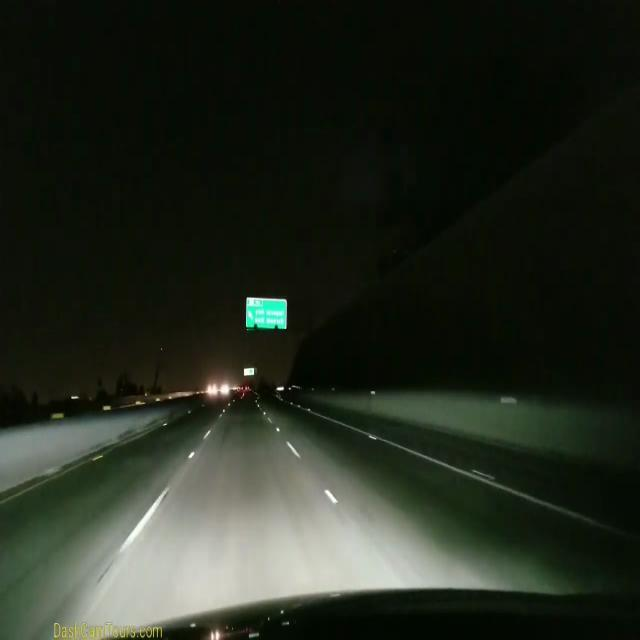street-signs: (246, 297, 287, 329), (243, 367, 255, 376)
